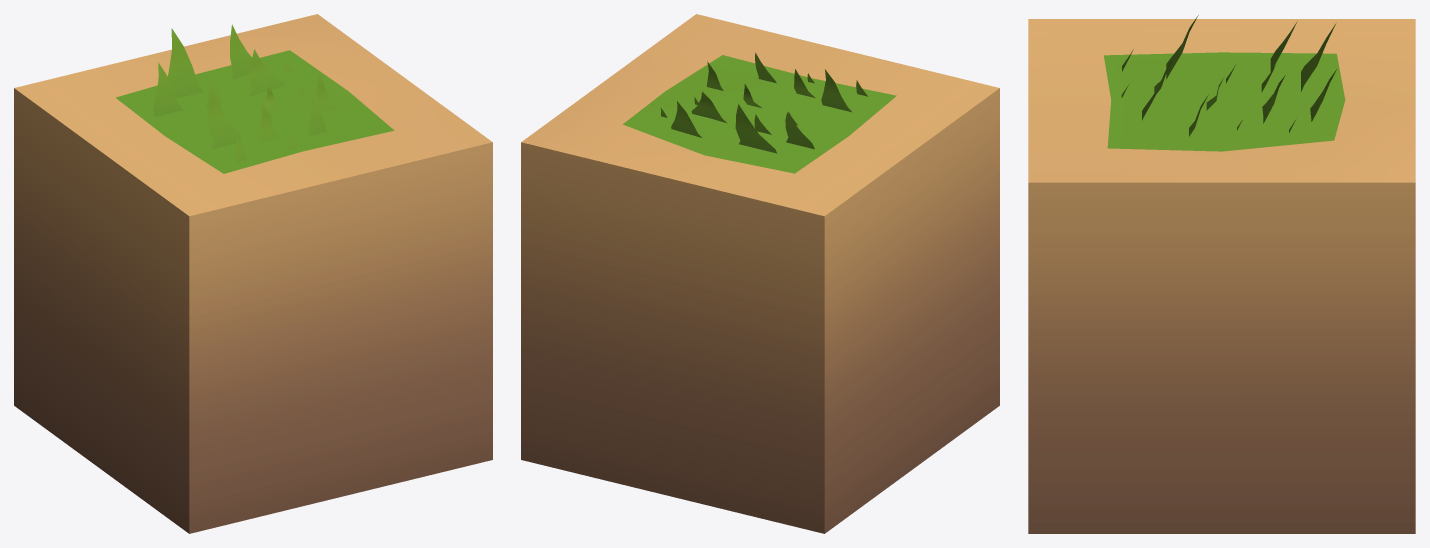
Rendered from fourside l tile.fbx.
3 views of the same model, side by side, from view 1: azimuth 30°, elevation 25°; view 2: azimuth 150°, elevation 25°; view 3: azimuth 270°, elevation 25° (orthographic). The views are drawn at different scales.
Parts seen in each view (by area): view 1: fside_l_ground, fside_l, fside_l_grass; view 2: fside_l_ground, fside_l, fside_l_grass; view 3: fside_l_ground, fside_l, fside_l_grass.
Part boxes in pixels (left/top/right/bottom): fside_l_ground: left=14, top=14, right=492, bottom=533; fside_l: left=116, top=50, right=394, bottom=173; fside_l_grass: left=153, top=24, right=336, bottom=162; fside_l_ground: left=521, top=14, right=999, bottom=533; fside_l: left=623, top=55, right=896, bottom=173; fside_l_grass: left=660, top=52, right=867, bottom=153; fside_l_ground: left=1028, top=19, right=1415, bottom=533; fside_l: left=1103, top=52, right=1345, bottom=151; fside_l_grass: left=1121, top=15, right=1337, bottom=136.
Size of the model in its own units: 10 by 11.79 by 10.
